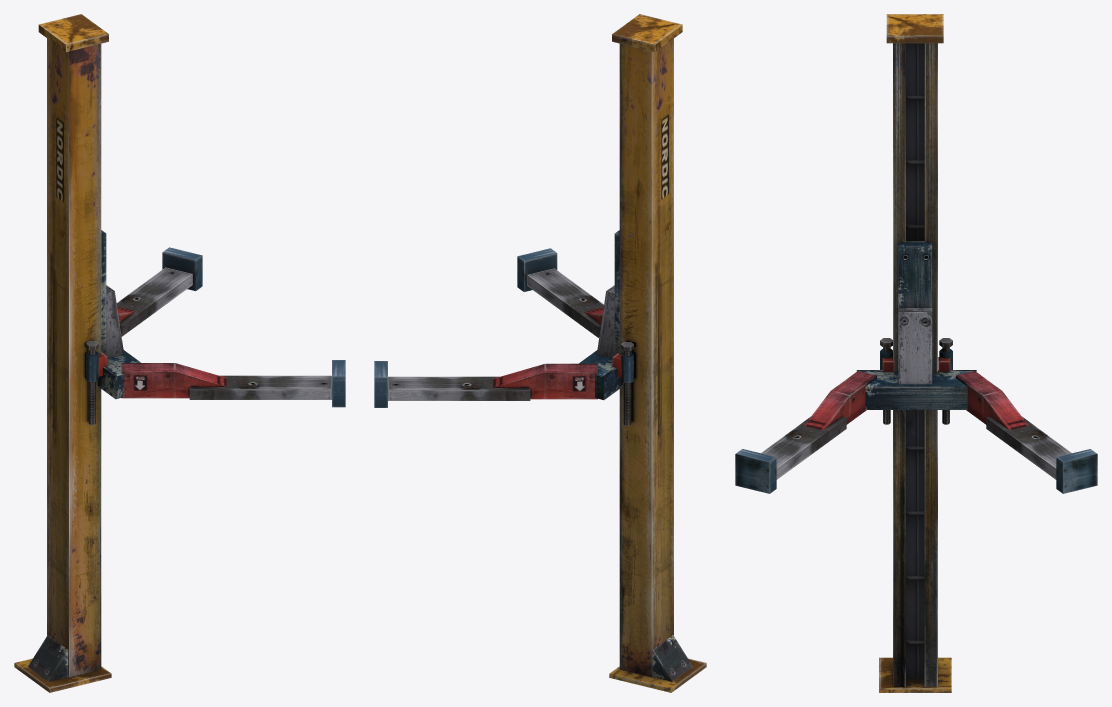
The model's file is Sheet.FBX.
The picture shows the model from 3 angles, left to right: view 1: azimuth 30°, elevation 25°; view 2: azimuth 150°, elevation 25°; view 3: azimuth 270°, elevation 25°; orthographic projection. The views are drawn at different scales.
Visible parts, largest first — view 1: Sheet; view 2: Sheet; view 3: Sheet.
Boxes of the visible parts, bbox=[...] form: Sheet: bbox=[14, 14, 345, 692]; Sheet: bbox=[374, 14, 706, 692]; Sheet: bbox=[735, 14, 1097, 692].
Size of the model in its own units: 3.33 by 4.19 by 8.4.
Materials: 1 (1 with a texture image).
